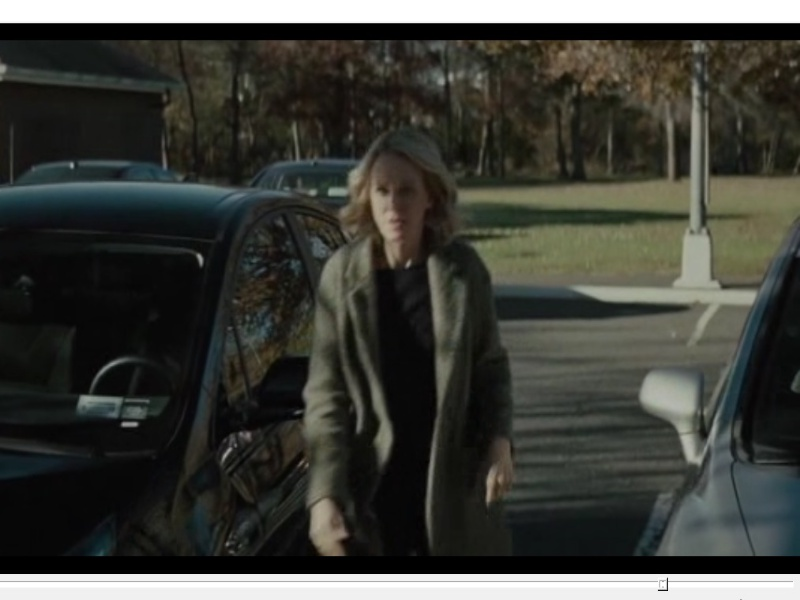TsisyArotava: (360, 136, 451, 272)
